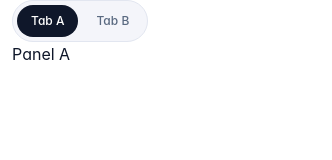
Test case: Tabs › switches panel when another trigger is clicked
The width and height of the screenshot is (332, 160).
Click the button "Tab B" at [113, 21], box [82,5,143,37]
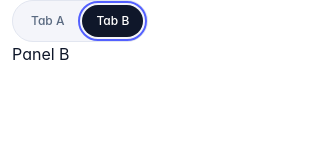
Check: the text "Panel B" is shown, box [12,44,70,64]
Check: the text "Panel A" is gone
